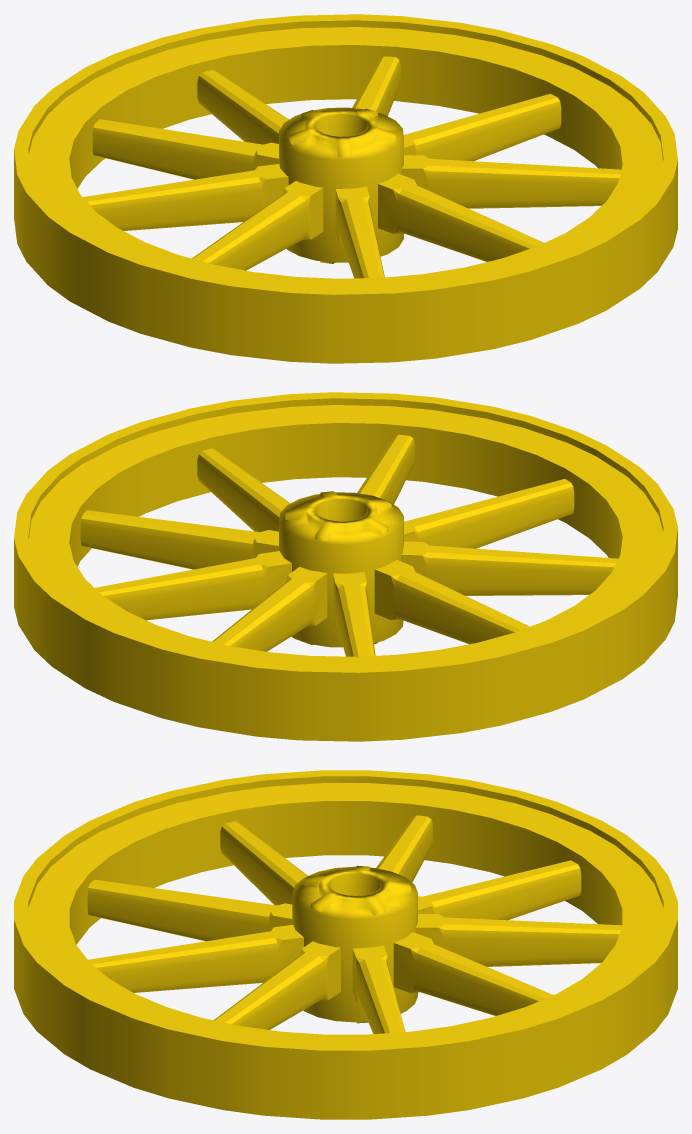
Rendered from wheel.glb.
3 renders of one model, top to bottom at view 1: azimuth 30°, elevation 25°; view 2: azimuth 150°, elevation 25°; view 3: azimuth 270°, elevation 25°, orthographic.
Visible parts, largest first — view 1: polySurface2, centere, d, h, i, e, c, g, a, f, b; view 2: polySurface2, centere, g, b, c, f, h, a, d, i, e; view 3: polySurface2, centere, e, a, f, b, i, d, g, c, h.
Boxes of the visible parts, bbox=[...] form: polySurface2: bbox=[14, 14, 677, 363]; centere: bbox=[279, 107, 403, 263]; d: bbox=[402, 155, 621, 208]; h: bbox=[82, 164, 288, 230]; i: bbox=[92, 119, 278, 179]; e: bbox=[378, 173, 543, 261]; c: bbox=[403, 93, 561, 161]; g: bbox=[192, 181, 323, 270]; a: bbox=[197, 70, 288, 144]; f: bbox=[335, 186, 384, 278]; b: bbox=[352, 56, 400, 116]; polySurface2: bbox=[14, 392, 677, 741]; centere: bbox=[279, 491, 403, 647]; g: bbox=[401, 541, 618, 595]; b: bbox=[95, 551, 291, 620]; c: bbox=[80, 510, 278, 569]; f: bbox=[404, 479, 574, 548]; h: bbox=[374, 559, 529, 644]; a: bbox=[212, 567, 327, 651]; d: bbox=[197, 448, 290, 532]; i: bbox=[333, 572, 375, 656]; e: bbox=[357, 434, 414, 504]; polySurface2: bbox=[14, 770, 677, 1119]; centere: bbox=[292, 865, 417, 1023]; e: bbox=[88, 924, 303, 992]; a: bbox=[416, 914, 622, 966]; f: bbox=[87, 879, 292, 941]; b: bbox=[393, 932, 553, 1015]; i: bbox=[418, 860, 581, 920]; d: bbox=[214, 941, 340, 1029]; g: bbox=[220, 821, 307, 905]; c: bbox=[352, 945, 405, 1034]; h: bbox=[376, 815, 432, 882].
Bounding box in the file's own units: 2.74 × 0.5425 × 2.74.
